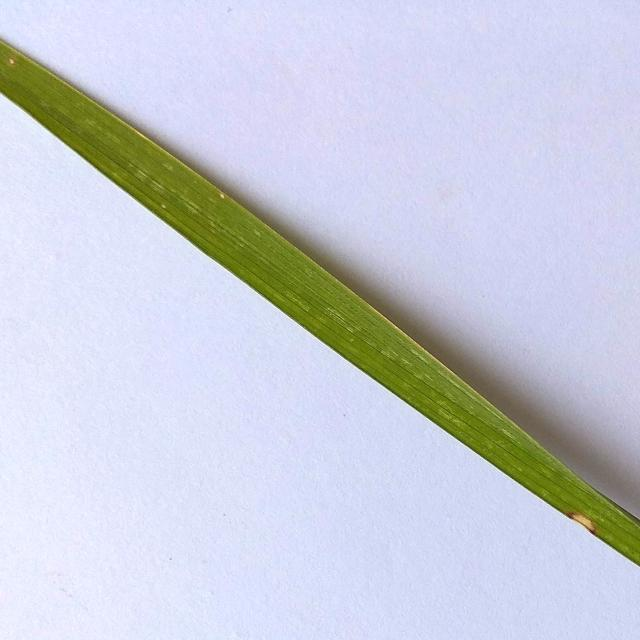Blast: (574, 510, 598, 530), (0, 52, 18, 66), (217, 190, 226, 204)
